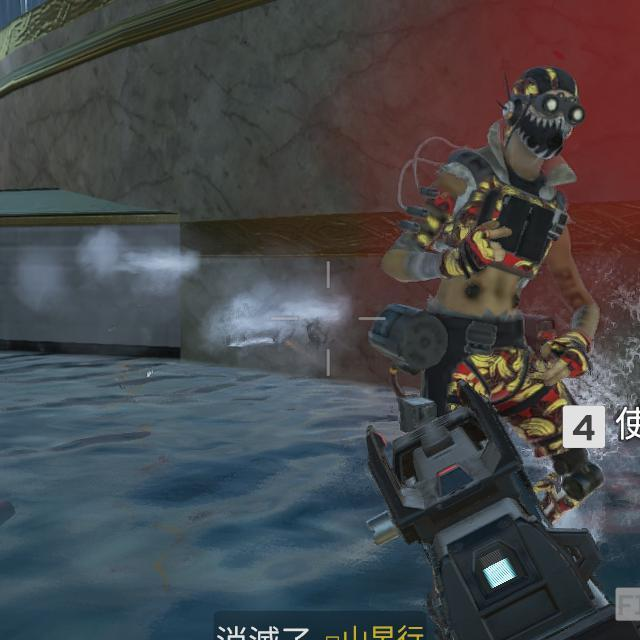avatar: (379, 64, 602, 402)
